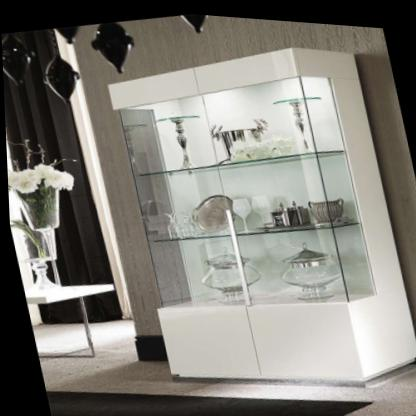Cupboard: (104, 38, 416, 385)
